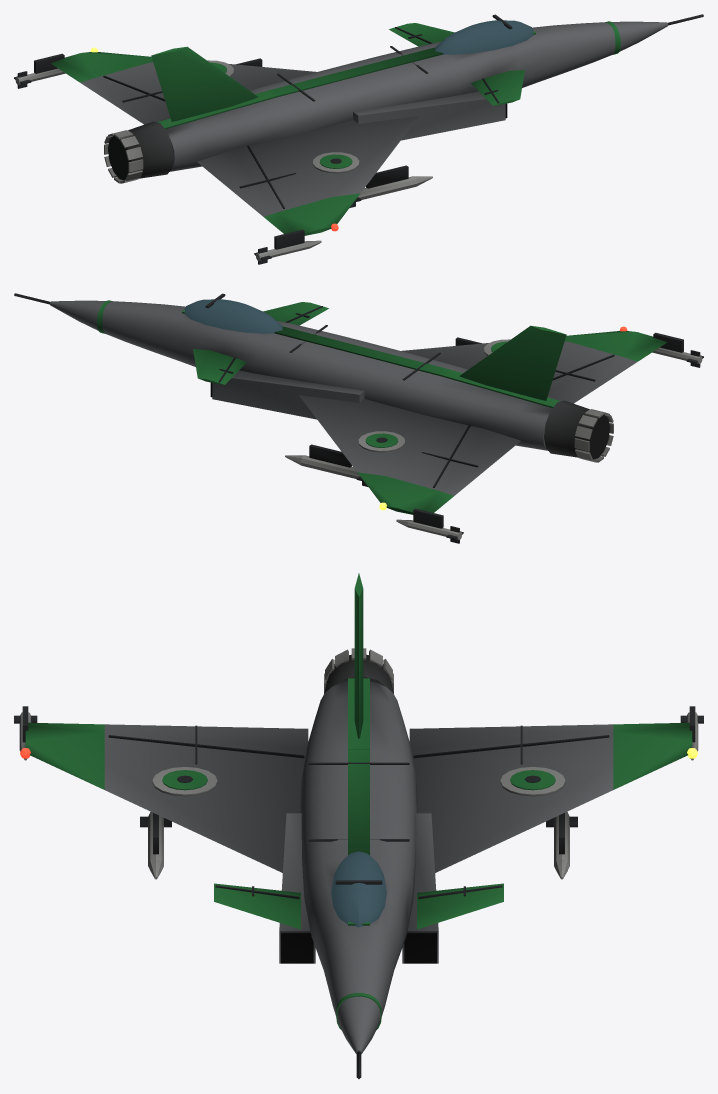
File: u_intercept.glb
3 renders of one model, top to bottom at view 1: azimuth 30°, elevation 25°; view 2: azimuth 150°, elevation 25°; view 3: azimuth 270°, elevation 25°, orthographic. The views are drawn at different scales.
Parts seen in each view (by area): view 1: Intercept_Walls, Intercept_Details; view 2: Intercept_Walls, Intercept_Details; view 3: Intercept_Walls, Intercept_Details.
Part boxes in pixels (box(x1,y1,x2,y2)): Intercept_Walls: box(51, 21, 667, 235); Intercept_Details: box(14, 14, 703, 264); Intercept_Walls: box(50, 300, 666, 514); Intercept_Details: box(14, 293, 703, 543); Intercept_Walls: box(25, 573, 692, 1053); Intercept_Details: box(14, 648, 703, 1078).
Bounding box in the file's own units: 0.9596 × 0.202 × 0.7045.
